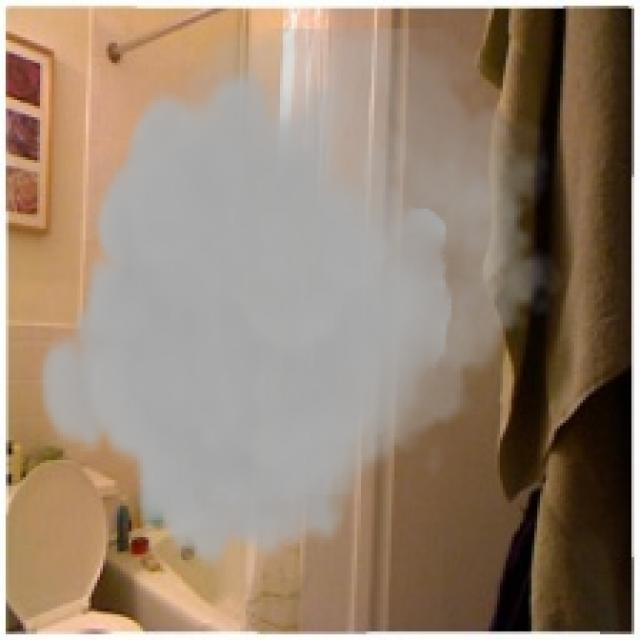smoke: (34, 29, 566, 572)
